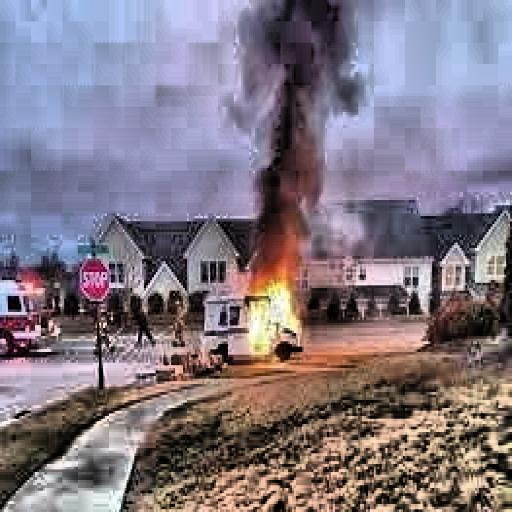fire: (238, 267, 318, 360)
